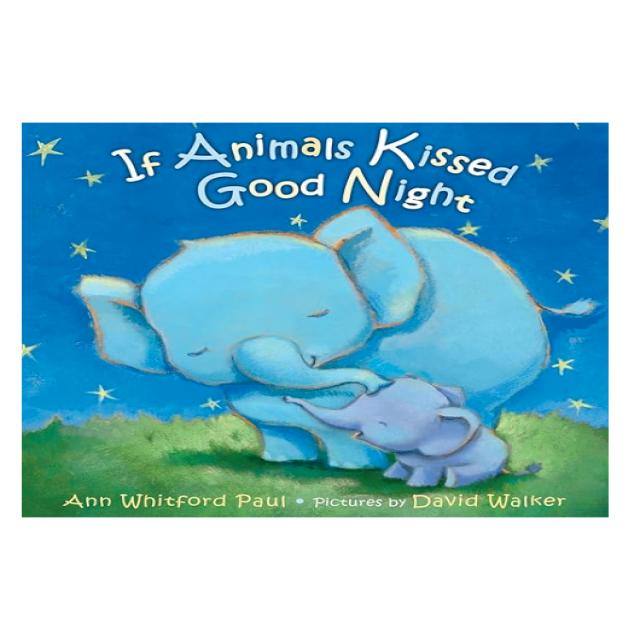titles-or-authors: (102, 126, 532, 224), (52, 490, 294, 513)
